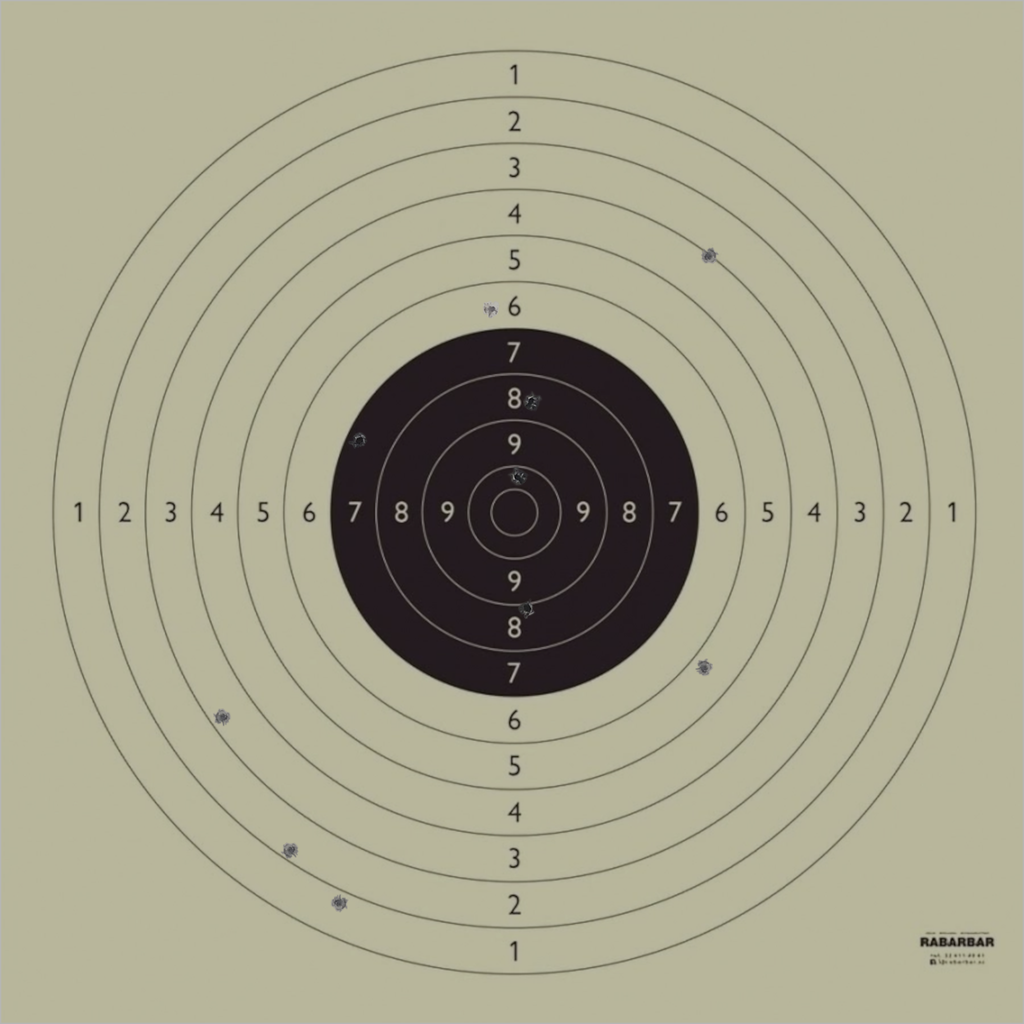0 punktow: (118, 8, 137, 26)
1 punkt: (330, 894, 348, 912)
10 punktow: (508, 468, 527, 486)
2 punkty: (282, 841, 300, 859)
3 punkty: (214, 708, 232, 727)
4 punkty: (699, 247, 718, 265)
5 punktow: (695, 659, 713, 678)
6 punktow: (482, 300, 501, 319)
7 punktow: (350, 431, 368, 450)
8 punktow: (522, 392, 541, 410)
9 punktow: (518, 599, 537, 618)
